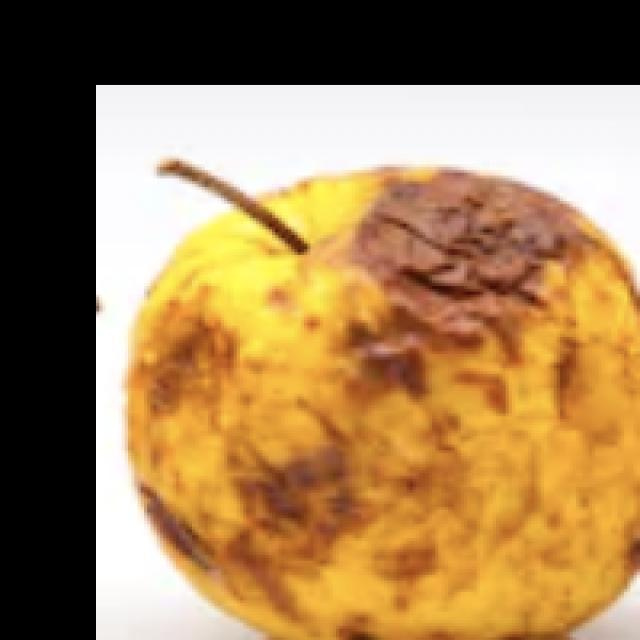Rotten: (143, 178, 640, 640)
